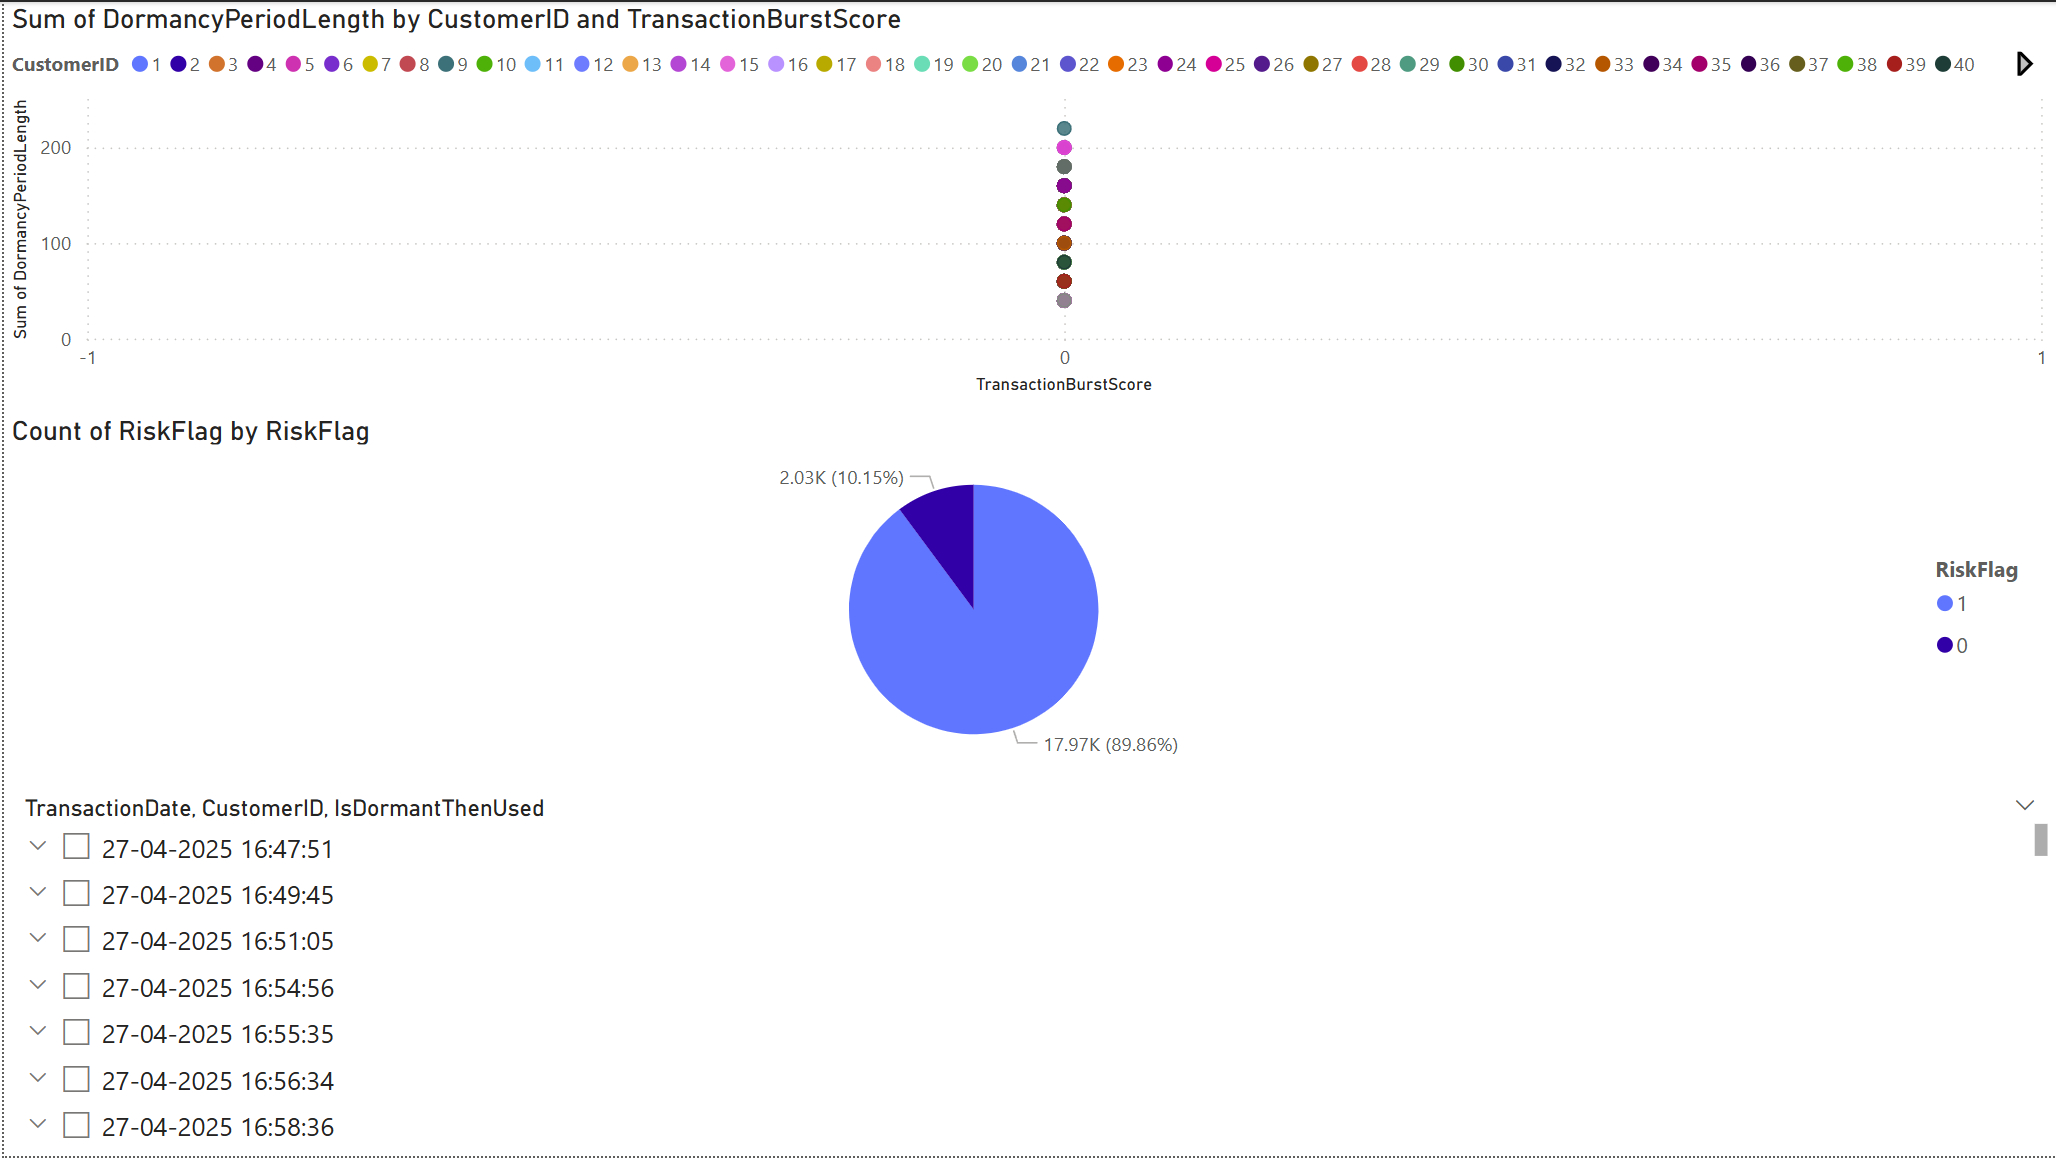

Layout of this report page (visuals, bound fields, positions):
{"tool":"powerbi","page":{"name":"Page 2","canvas":[1280,720],"ordinal":1},"visuals":[{"type":"scatterChart","fields":{"X":["final_features.TransactionBurstScore"],"Series":["final_features.CustomerID"],"Y":["Sum(final_features.DormancyPeriodLength)"]},"box":[0,0,1280,249],"z":0},{"type":"pieChart","fields":{"Category":["final_features.RiskFlag"],"Y":["CountNonNull(final_features.RiskFlag)"]},"box":[0,257,1280,225],"z":1000},{"type":"slicer","fields":{"Values":["final_features.TransactionDate","final_features.CustomerID","final_features.IsDormantThenUsed"]},"box":[0,490,1280,230],"z":2000}]}

Visuals, with their boxes in screenshot pixels (x1, y1, x2, y2), scaled from the page's 1280x720 canvas onto the 2056x1159 screenshot:
scatterChart - final_features.TransactionBurstScore x final_features.CustomerID: (left=0, top=0, right=2055, bottom=401)
pieChart - final_features.RiskFlag x CountNonNull(final_features.RiskFlag): (left=0, top=414, right=2055, bottom=776)
slicer - final_features.TransactionDate x final_features.CustomerID: (left=0, top=789, right=2055, bottom=1158)
